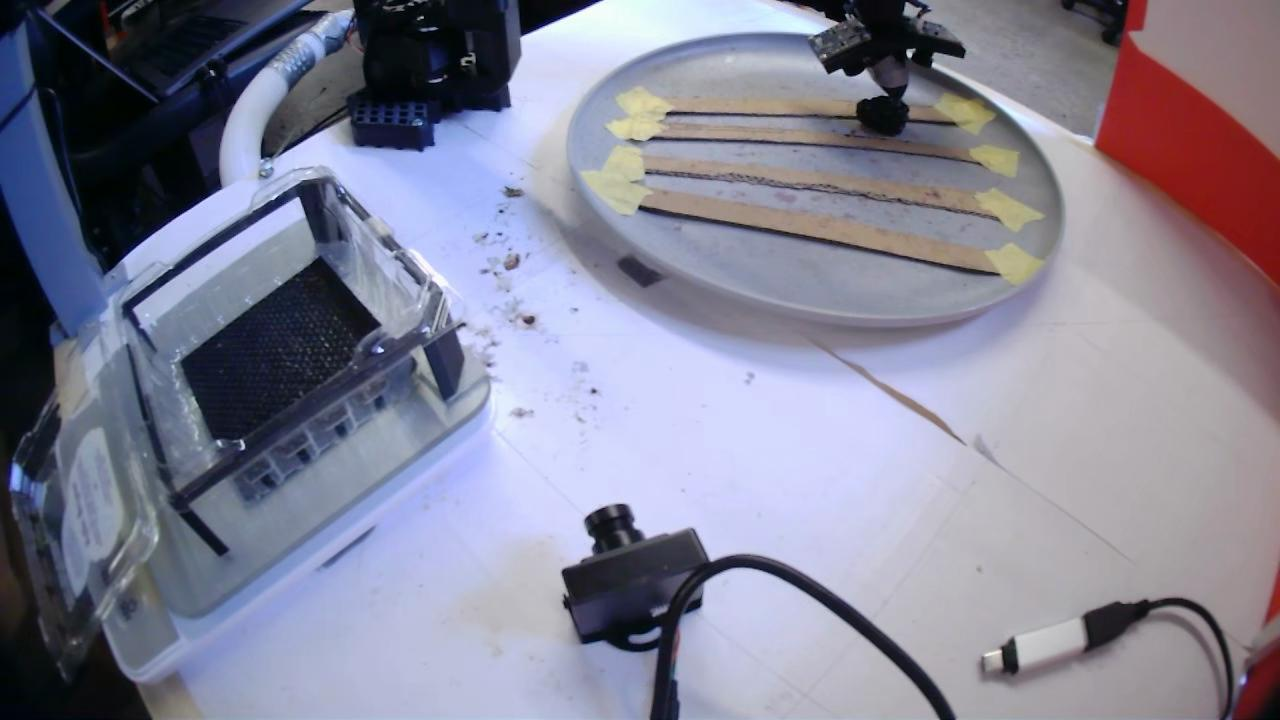berry: (856, 96, 908, 136)
